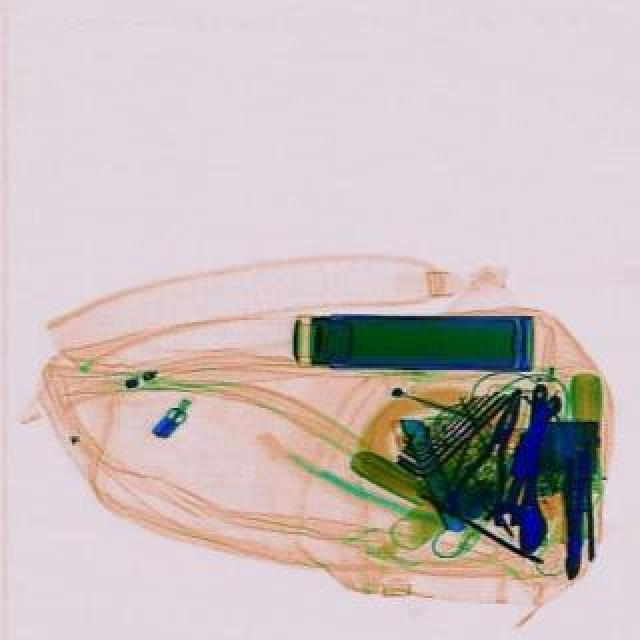scissors: (494, 388, 574, 532), (510, 380, 564, 556)
wrench: (446, 376, 546, 528), (560, 450, 596, 578)
